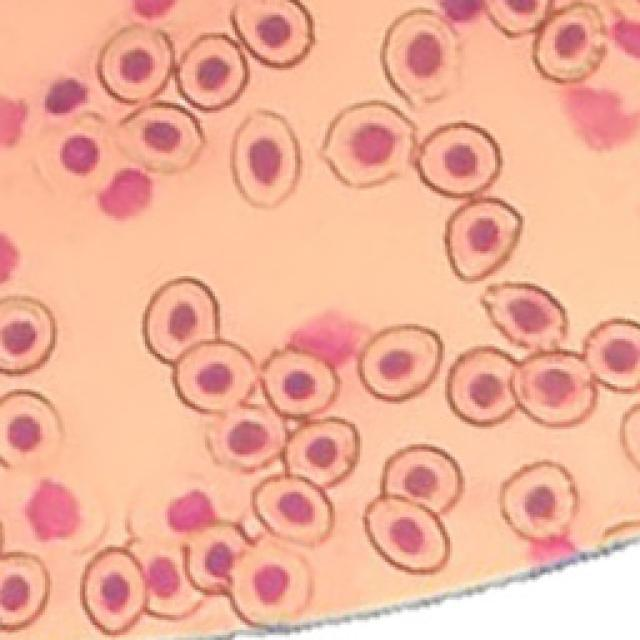RBC: (322, 102, 414, 187), (381, 9, 459, 106), (37, 115, 122, 193), (365, 494, 449, 572), (232, 110, 300, 206), (144, 277, 219, 363), (445, 198, 522, 281), (230, 546, 311, 624), (359, 325, 442, 400), (418, 122, 501, 197), (512, 351, 596, 425), (118, 102, 204, 172), (501, 462, 578, 540), (174, 340, 256, 412), (482, 282, 568, 350), (81, 547, 146, 634), (99, 25, 172, 102), (534, 4, 605, 82), (232, 0, 314, 67), (131, 543, 204, 618), (252, 476, 332, 544), (382, 445, 462, 513), (178, 34, 249, 110), (262, 349, 338, 418), (448, 348, 516, 425), (208, 404, 286, 471), (285, 418, 359, 487), (0, 390, 62, 467), (0, 296, 56, 374), (188, 522, 248, 594), (585, 319, 640, 390), (0, 552, 49, 630), (486, 0, 550, 35)
WBC: (288, 310, 369, 367), (25, 479, 80, 540), (99, 168, 151, 218), (168, 491, 215, 531), (45, 79, 86, 113), (612, 19, 640, 58), (0, 233, 18, 282), (441, 0, 482, 21), (134, 1, 175, 18)
